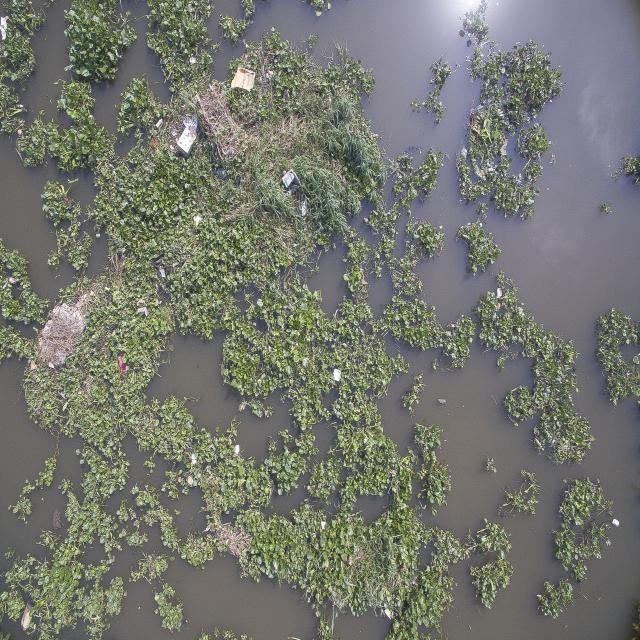plastic: (172, 118, 202, 159), (229, 60, 261, 97), (273, 166, 303, 196), (111, 345, 135, 381), (0, 3, 16, 47), (328, 364, 352, 390), (607, 514, 631, 534), (230, 439, 249, 459), (191, 212, 208, 231), (297, 206, 316, 218)
